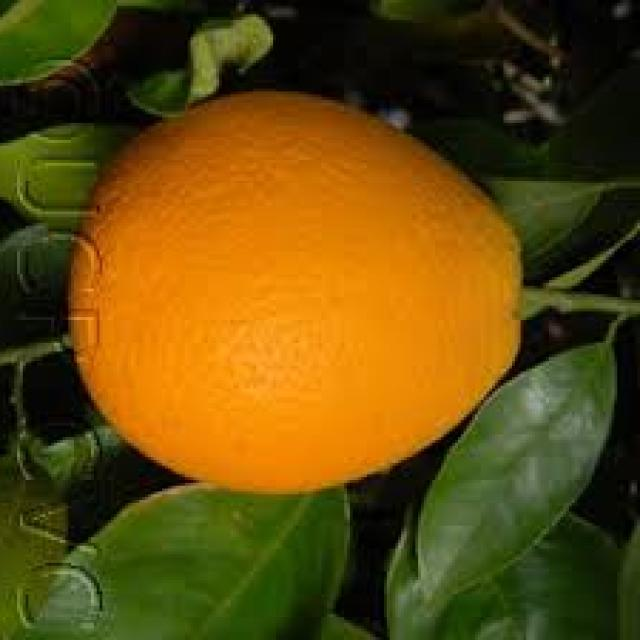Good_Orange: (60, 89, 523, 497)
